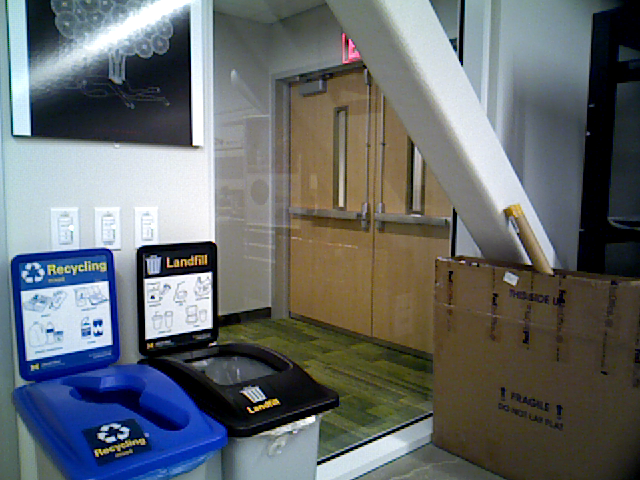painting1: (14, 1, 204, 134)
